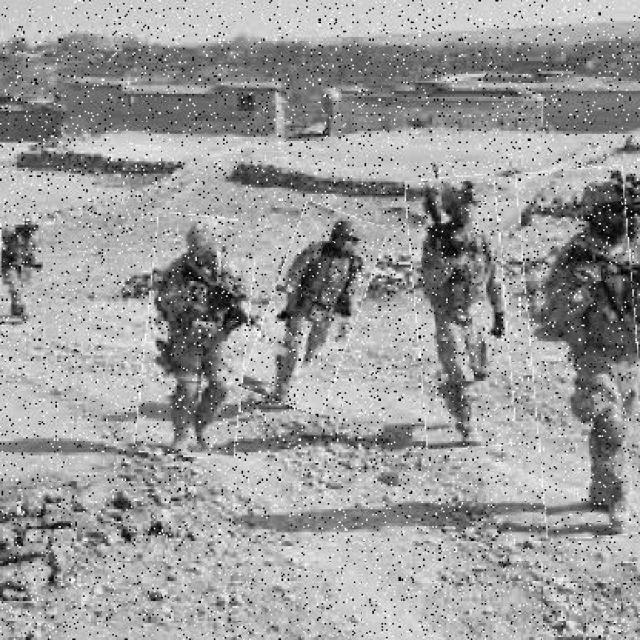Person: (524, 167, 640, 541), (412, 177, 513, 451), (141, 217, 253, 460), (257, 206, 374, 413), (1, 210, 46, 321)
